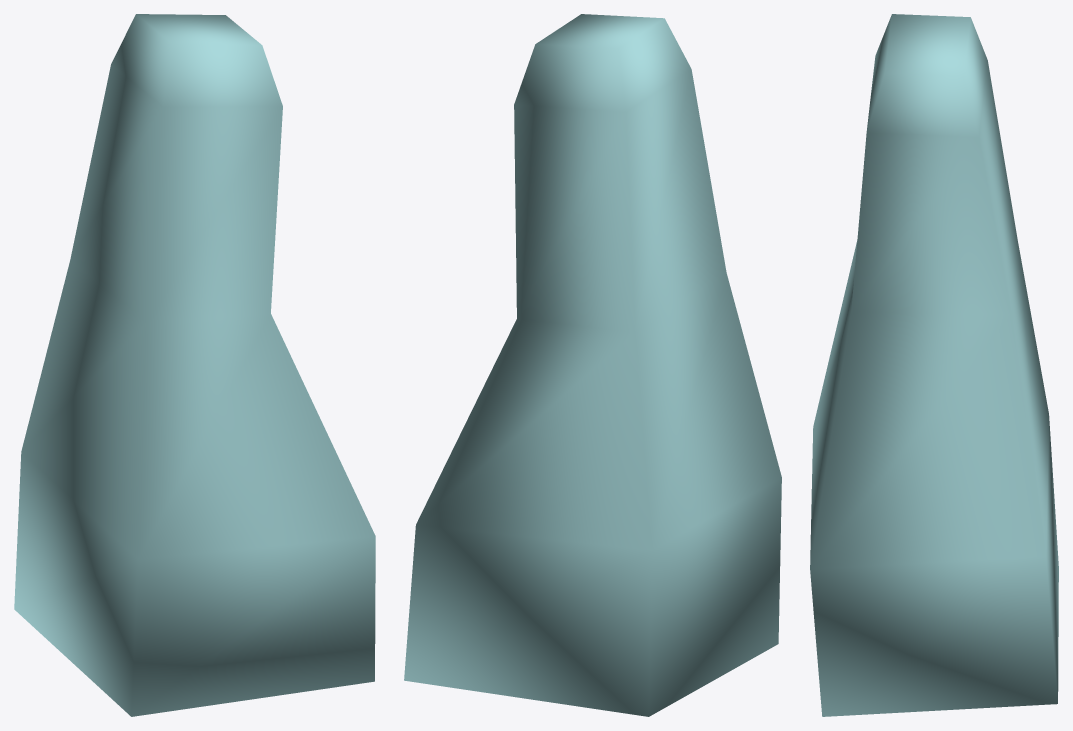
File: Skelly_f_middle.03.L.fbx
The picture shows the model from 3 angles, left to right: view 1: azimuth 30°, elevation 25°; view 2: azimuth 150°, elevation 25°; view 3: azimuth 270°, elevation 25°; orthographic projection. The views are drawn at different scales.
Parts seen in each view (by area): view 1: Skelly_f_middle.03.L; view 2: Skelly_f_middle.03.L; view 3: Skelly_f_middle.03.L.
Boxes of the visible parts, bbox=[...] form: Skelly_f_middle.03.L: bbox=[14, 14, 375, 716]; Skelly_f_middle.03.L: bbox=[404, 14, 781, 716]; Skelly_f_middle.03.L: bbox=[810, 14, 1058, 716].
Bounding box in the file's own units: 1.17 × 2.94 × 1.06.
